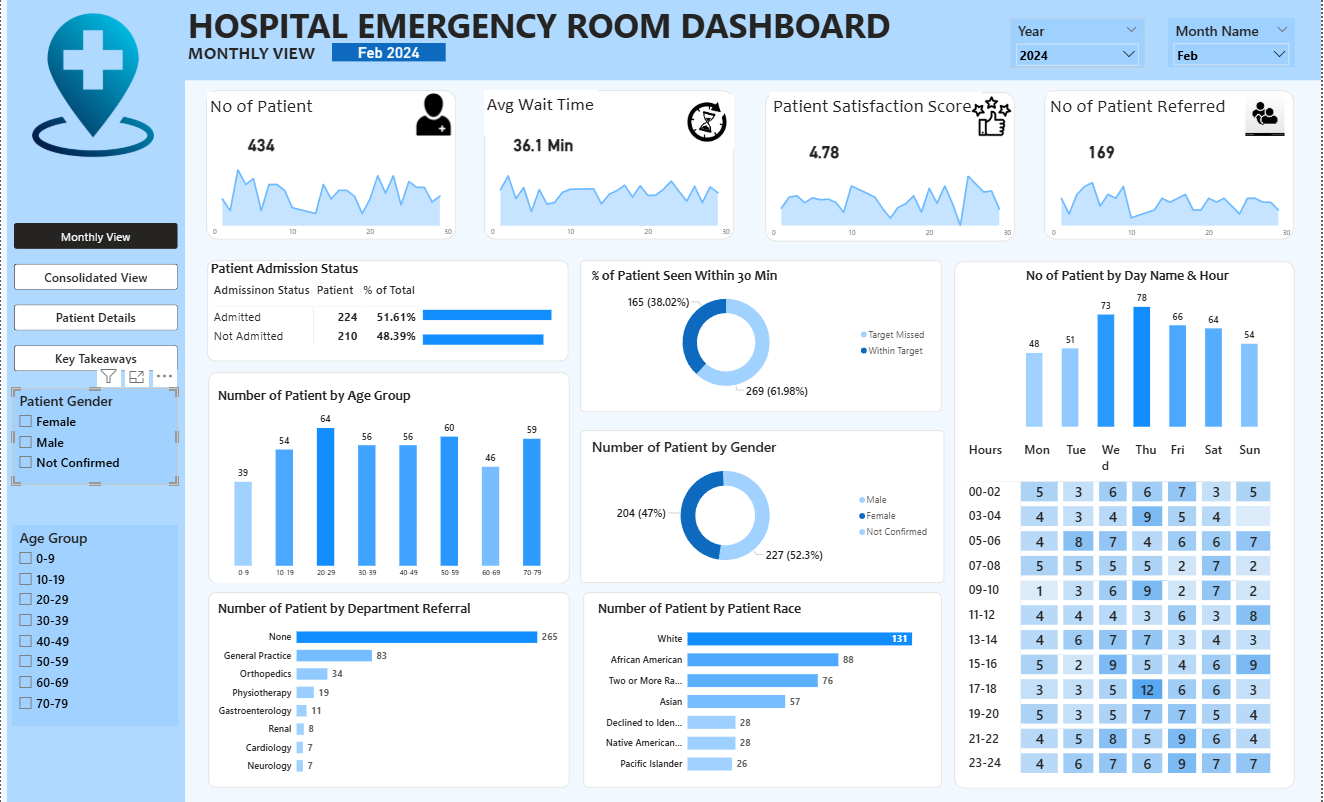

This screenshot's page, from the dashboard's own definition file:
{"tool":"powerbi","page":{"name":"Monthly View","canvas":[2300,1400],"ordinal":0},"visuals":[{"type":"shape","box":[10.5,0,310,1399.9],"z":0},{"type":"shape","box":[357.1,159.3,435.8,260.8],"z":1000},{"type":"shape","box":[319.8,0,1980.2,141.6],"z":2000},{"type":"card","fields":{"Values":["Hospital ER_Data.Number of Patient"]},"box":[358.8,210,189,84],"z":3000},{"type":"textbox","box":[319.8,0,1256.6,92.6],"z":4000},{"type":"textbox","box":[320.3,70,255.6,63],"z":5000},{"type":"slicer","fields":{"Values":["Date Table.Year"]},"box":[1757,33.1,235.1,87.1],"z":6000},{"type":"slicer","fields":{"Values":["Date Table.Month Name"]},"box":[2032.1,33.1,221.1,85.3],"z":7000},{"type":"areaChart","fields":{"Category":["Date Table.Date.Variation.Date Hierarchy.Day"],"Y":["Hospital ER_Data.Number of Patient"]},"box":[357.1,278.3,435.8,145.3],"z":8000},{"type":"card","fields":{"Values":["Min(Date Table.Month & Year)"]},"box":[575.9,77,197.8,31.5],"z":9000},{"type":"shape","box":[1330.3,162.8,435.8,260.8],"z":10000},{"type":"textbox","box":[1339.1,161.9,369.2,76.6],"z":11000},{"type":"card","fields":{"Values":["Hospital ER_Data.Avg Satisfaction Score"]},"box":[1339,222.3,189,84],"z":12000},{"type":"shape","box":[1816.9,159.3,435.8,260.8],"z":13000},{"type":"textbox","box":[1821.4,161.9,339.6,76.6],"z":14000},{"type":"textbox","box":[358.7,161.9,198.5,76.6],"z":15000},{"type":"shape","box":[840.2,159.3,435.8,260.8],"z":16000},{"type":"areaChart","fields":{"Category":["Date Table.Date.Variation.Date Hierarchy.Day"],"Y":["Hospital ER_Data.No of Patient Reffered"]},"box":[1817.5,277.8,434.9,146],"z":17000},{"type":"areaChart","fields":{"Category":["Date Table.Date.Variation.Date Hierarchy.Day"],"Y":["Avg(Hospital ER_Data.Patient Waittime)"]},"box":[840.2,278.3,435.8,145.3],"z":18000},{"type":"card","fields":{"Values":["Hospital ER_Data.Avg Wait Time"]},"box":[848.9,210,189,84],"z":19000},{"type":"areaChart","fields":{"Category":["Date Table.Date.Variation.Date Hierarchy.Day"],"Y":["Hospital ER_Data.Avg Satisfaction Score"]},"box":[1330.2,293.7,436.5,130.2],"z":20000},{"type":"card","fields":{"Values":["Hospital ER_Data.No of Patient Reffered"]},"box":[1822.1,222.3,189,84],"z":21000},{"type":"shape","box":[358.8,455.1,630,177],"z":22000},{"type":"textbox","box":[840.2,159.3,197.8,78.8],"z":23000},{"type":"pivotTable","title":"Patient Admission Status","fields":{"Rows":["Hospital ER_Data.Admissinon Status"],"Values":["Hospital ER_Data.Number of Patient1","Hospital ER_Data.Number of Patient"]},"box":[360.4,454.5,630.3,177.6],"z":24000},{"type":"barChart","fields":{"Category":["Hospital ER_Data.Admissinon Status"],"Y":["Hospital ER_Data.Number of Patient"]},"box":[729.6,506.7,310,125.4],"z":25000},{"type":"shape","box":[360.4,649.5,630.3,368],"z":26000},{"type":"clusteredColumnChart","fields":{"Category":["Hospital ER_Data.Age Group"],"Y":["Hospital ER_Data.Number of Patient"]},"box":[372.6,675.6,602.5,341.3],"z":27000},{"type":"shape","box":[360.3,1033.3,630.2,341.3],"z":28000},{"type":"clusteredBarChart","fields":{"Category":["Hospital ER_Data.Department Referral"],"Y":["Hospital ER_Data.Number of Patient"]},"box":[373,1046,603.2,317.5],"z":29000},{"type":"shape","box":[1007.9,454,630.2,265.1],"z":30000},{"type":"donutChart","title":"%  of Patient  Seen Within 30 Min","fields":{"Category":["Hospital ER_Data.Wait_Time Status"],"Y":["Hospital ER_Data.Number of Patient"]},"box":[1023.8,466.7,598.4,233.3],"z":31000},{"type":"shape","box":[1007.9,750.8,634.9,266.7],"z":32000},{"type":"donutChart","title":"Number of Patient by Gender","fields":{"Category":["Hospital ER_Data.Patient Gender"],"Y":["Hospital ER_Data.Number of Patient"]},"box":[1023.8,763.5,603.2,241.3],"z":33000},{"type":"shape","box":[1012.7,1033.3,625.4,341.3],"z":34000},{"type":"clusteredBarChart","fields":{"Y":["Hospital ER_Data.Number of Patient"],"Category":["Hospital ER_Data.Patient Race"]},"box":[1034.9,1046,592.1,317.5],"z":35000},{"type":"shape","box":[1660.3,455.6,593.7,919],"z":36000},{"type":"pivotTable","fields":{"Rows":["Hospital ER_Data.Waittime Interval"],"Columns":["Date Table.Day Name"],"Values":["Hospital ER_Data.Number of Patient"]},"box":[1674.6,763.5,565.1,600],"z":37000},{"type":"columnChart","title":"No of Patient by Day Name & Hour","fields":{"Category":["Date Table.Day Name"],"Y":["Hospital ER_Data.Number of Patient"]},"box":[1779.4,466.7,415.9,284.1],"z":38000},{"type":"image","box":[34.8,10.4,250.7,278.6],"z":39000},{"type":"image","box":[698.3,123.6,109.7,155],"z":40000},{"type":"image","box":[1182.3,165.4,94,95.8],"z":41000},{"type":"image","box":[1683.8,168.9,81.8,69.7],"z":42000},{"type":"image","box":[2160.9,165.4,80.1,73.1],"z":43000},{"type":"pageNavigator","box":[22.6,390,285.6,259.5],"z":44000},{"type":"slicer","fields":{"Values":["Hospital ER_Data.Age Group"]},"box":[19.2,915.9,289.1,350],"z":45000},{"type":"slicer","fields":{"Values":["Hospital ER_Data.Patient Gender"]},"box":[19.2,677.4,289.1,168.9],"z":46000}]}

Visuals, with their boxes in screenshot pixels (x1, y1, x2, y2), scaled from the page's 2300x1400 canvas onto the 1324x802 screenshot:
shape: <box>6,0,184,801</box>
shape: <box>206,91,456,241</box>
shape: <box>184,0,1323,81</box>
card - Hospital ER_Data.Number of Patient: <box>207,120,315,168</box>
textbox: <box>184,0,907,53</box>
textbox: <box>184,40,332,76</box>
slicer - Date Table.Year: <box>1011,19,1147,69</box>
slicer - Date Table.Month Name: <box>1170,19,1297,68</box>
areaChart - Date Table.Date.Variation.Date Hierarchy.Day x Hospital ER_Data.Number of Patient: <box>206,159,456,243</box>
card - Min(Date Table.Month & Year): <box>332,44,445,62</box>
shape: <box>766,93,1017,243</box>
textbox: <box>771,93,983,137</box>
card - Hospital ER_Data.Avg Satisfaction Score: <box>771,127,880,175</box>
shape: <box>1046,91,1297,241</box>
textbox: <box>1048,93,1244,137</box>
textbox: <box>206,93,321,137</box>
shape: <box>484,91,735,241</box>
areaChart - Date Table.Date.Variation.Date Hierarchy.Day x Hospital ER_Data.No of Patient Reffered: <box>1046,159,1297,243</box>
areaChart - Date Table.Date.Variation.Date Hierarchy.Day x Avg(Hospital ER_Data.Patient Waittime): <box>484,159,735,243</box>
card - Hospital ER_Data.Avg Wait Time: <box>489,120,597,168</box>
areaChart - Date Table.Date.Variation.Date Hierarchy.Day x Hospital ER_Data.Avg Satisfaction Score: <box>766,168,1017,243</box>
card - Hospital ER_Data.No of Patient Reffered: <box>1049,127,1158,175</box>
shape: <box>207,261,569,362</box>
textbox: <box>484,91,598,136</box>
"Patient Admission Status" pivotTable: <box>207,260,570,362</box>
barChart - Hospital ER_Data.Admissinon Status x Hospital ER_Data.Number of Patient: <box>420,290,598,362</box>
shape: <box>207,372,570,583</box>
clusteredColumnChart - Hospital ER_Data.Age Group x Hospital ER_Data.Number of Patient: <box>214,387,561,583</box>
shape: <box>207,592,570,787</box>
clusteredBarChart - Hospital ER_Data.Department Referral x Hospital ER_Data.Number of Patient: <box>215,599,562,781</box>
shape: <box>580,260,943,412</box>
"%  of Patient  Seen Within 30 Min" donutChart: <box>589,267,934,401</box>
shape: <box>580,430,946,583</box>
"Number of Patient by Gender" donutChart: <box>589,437,937,576</box>
shape: <box>583,592,943,787</box>
clusteredBarChart - Hospital ER_Data.Number of Patient x Hospital ER_Data.Patient Race: <box>596,599,937,781</box>
shape: <box>956,261,1298,787</box>
pivotTable - Hospital ER_Data.Waittime Interval x Date Table.Day Name: <box>964,437,1289,781</box>
"No of Patient by Day Name & Hour" columnChart: <box>1024,267,1264,430</box>
image: <box>20,6,164,166</box>
image: <box>402,71,465,160</box>
image: <box>681,95,735,150</box>
image: <box>969,97,1016,137</box>
image: <box>1244,95,1290,137</box>
pageNavigator: <box>13,223,177,372</box>
slicer - Hospital ER_Data.Age Group: <box>11,525,177,725</box>
slicer - Hospital ER_Data.Patient Gender: <box>11,388,177,485</box>
